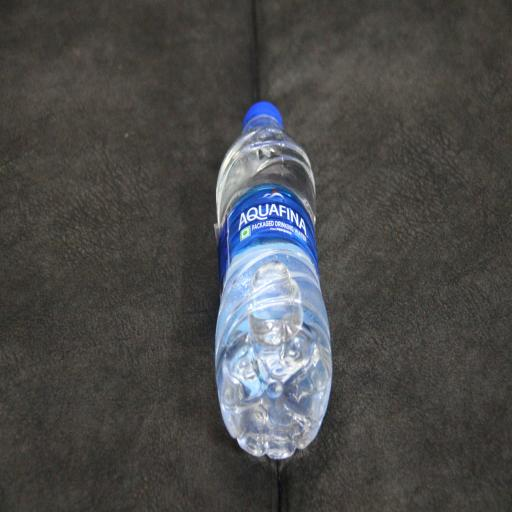Aquafina: (215, 102, 332, 451)
